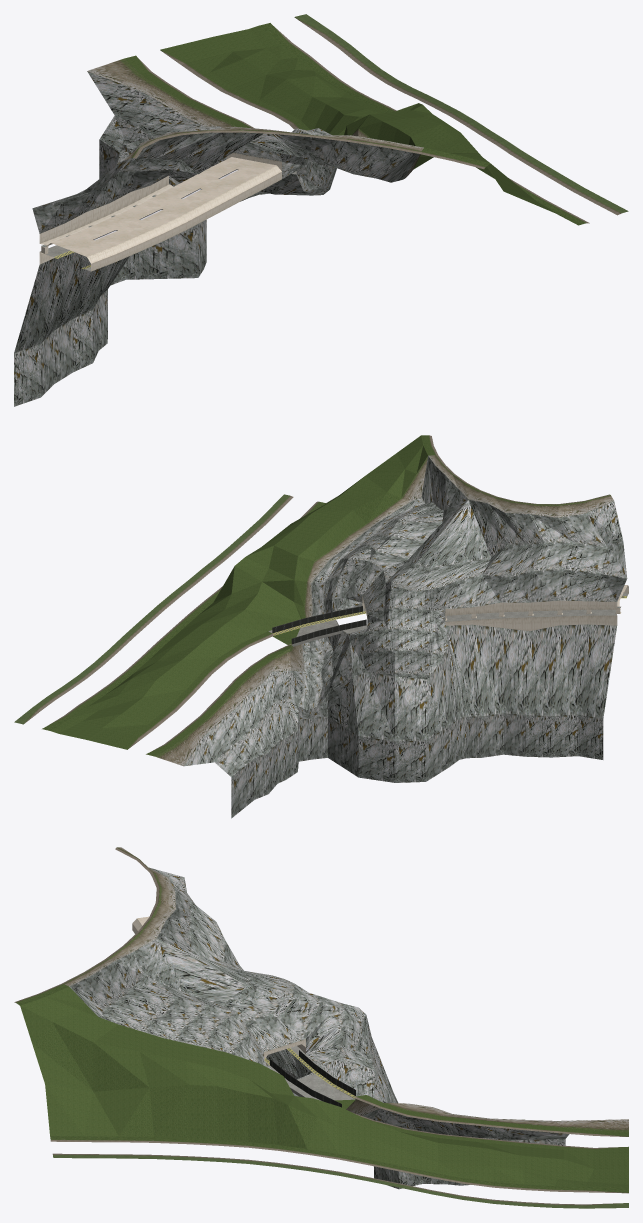
The model's file is cuntwland03b.obj.
The picture shows the model from 3 angles, top to bottom: view 1: azimuth 30°, elevation 25°; view 2: azimuth 150°, elevation 25°; view 3: azimuth 270°, elevation 25°; orthographic projection. The views are drawn at different scales.
Parts seen in each view (by area): view 1: cuntwland03b; view 2: cuntwland03b; view 3: cuntwland03b.
Boxes of the visible parts, left/top/right/bottom form: cuntwland03b: left=14, top=14, right=628, bottom=406; cuntwland03b: left=14, top=435, right=628, bottom=818; cuntwland03b: left=14, top=847, right=628, bottom=1208.
Bounding box in the file's own units: 224 × 113 × 260.
Materials: 11 (11 with a texture image).
